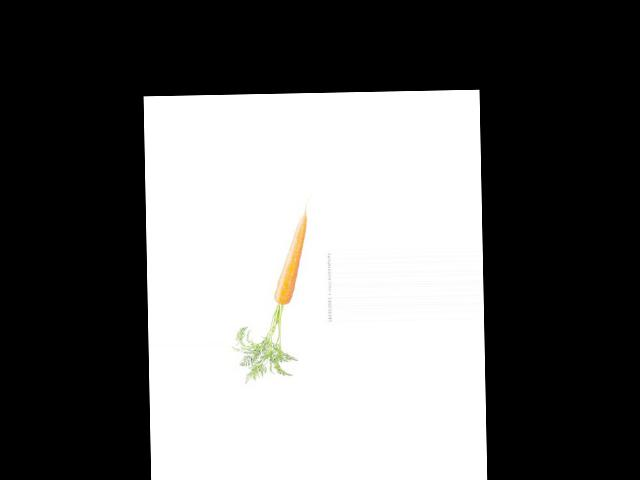carrot: (271, 209, 316, 308)
